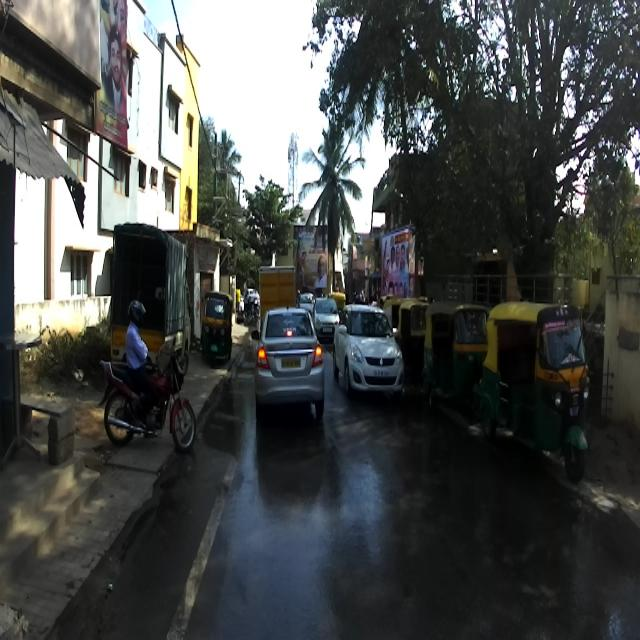autorickshaw: (480, 300, 590, 482), (424, 299, 490, 417), (200, 291, 232, 367)
car: (251, 305, 325, 419), (332, 304, 404, 400)
motorcycle: (98, 332, 196, 450)
